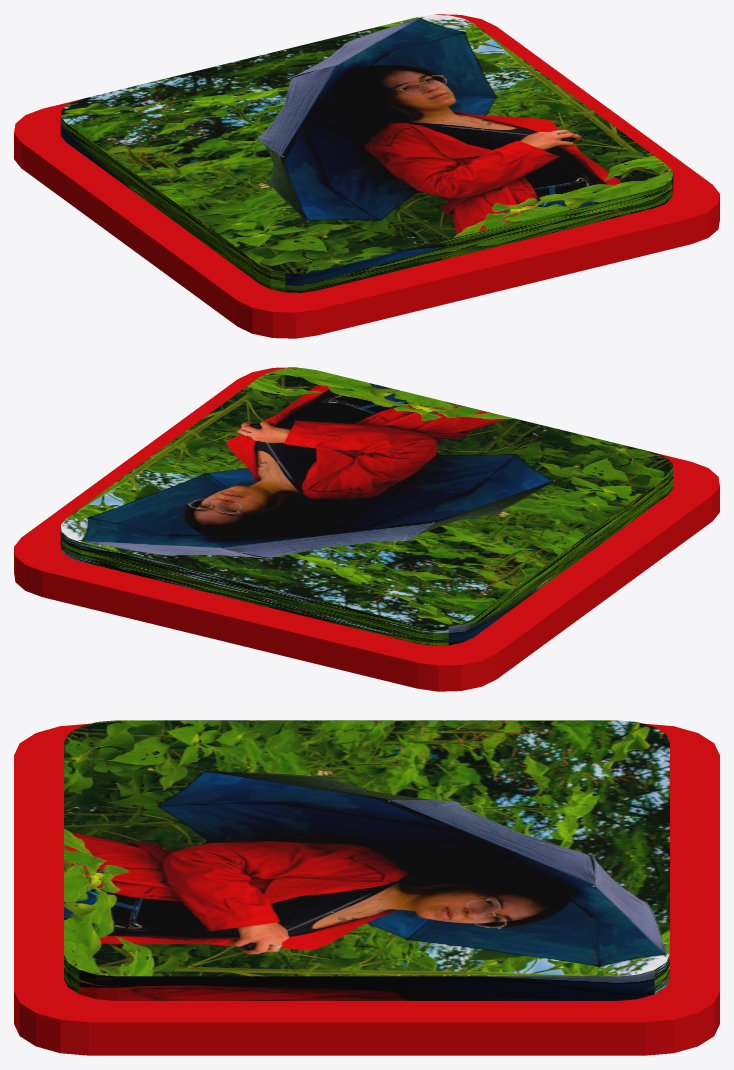
Rendered from CardModel.dae.
3 renders of one model, top to bottom at view 1: azimuth 30°, elevation 25°; view 2: azimuth 150°, elevation 25°; view 3: azimuth 270°, elevation 25°, orthographic. The views are drawn at different scales.
Visible parts, largest first — view 1: Cube.001, Cube; view 2: Cube.001, Cube; view 3: Cube.001, Cube.
Boxes of the visible parts, x1,y1,x2,y2 form: Cube.001: (60,15,673,292); Cube: (14,14,719,338); Cube.001: (60,368,673,645); Cube: (14,367,719,691); Cube.001: (64,720,669,1000); Cube: (14,723,719,1055).
Bounding box in the file's own units: 2 × 2 × 0.1815.
3 materials, 1 textured.
